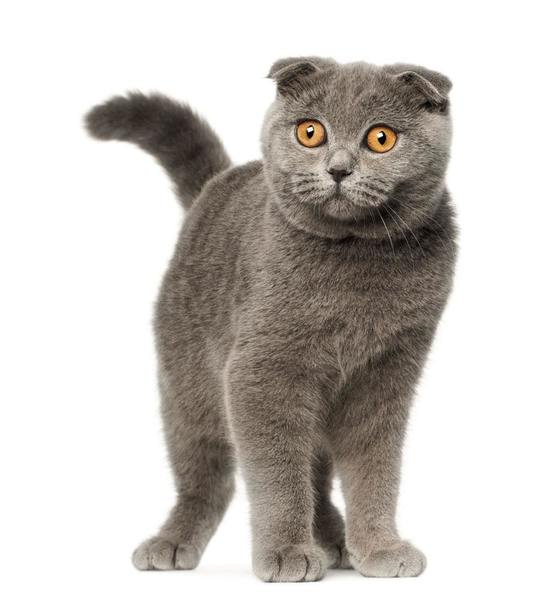cat: (247, 29, 477, 258)
